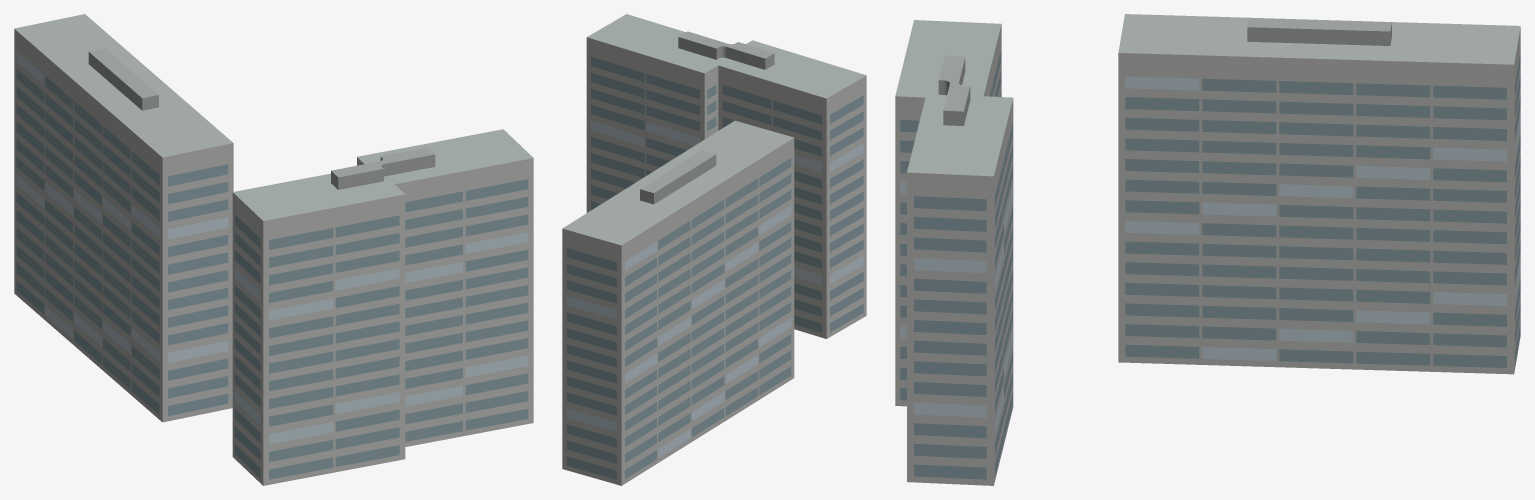
The model's file is apt-a10024774.glb.
3 renders of one model, left to right at view 1: azimuth 30°, elevation 25°; view 2: azimuth 150°, elevation 25°; view 3: azimuth 270°, elevation 25°, orthographic. The views are drawn at different scales.
Parts seen in each view (by area): view 1: apt-a10024774; view 2: apt-a10024774; view 3: apt-a10024774.
Boxes of the visible parts, <box> form: apt-a10024774: <box>14,14,533,485</box>; apt-a10024774: <box>562,14,866,485</box>; apt-a10024774: <box>895,14,1520,485</box>.
Size of the model in its own units: 45.12 by 42 by 73.45.
